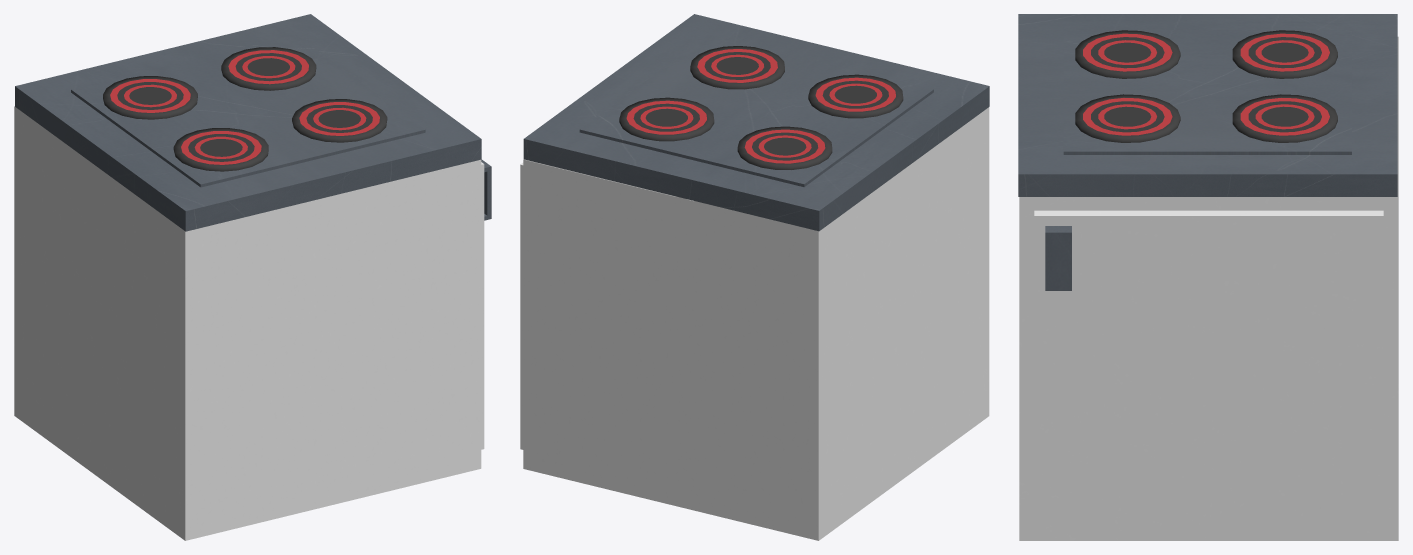
Rendered from mdl_Kitchen_basic02.fbx.
The picture shows the model from 3 angles, left to right: view 1: azimuth 30°, elevation 25°; view 2: azimuth 150°, elevation 25°; view 3: azimuth 270°, elevation 25°; orthographic projection. The views are drawn at different scales.
Parts seen in each view (by area): view 1: Cube.003; view 2: Cube.003; view 3: Cube.003.
Boxes of the visible parts, x1,y1,x2,y2 form: Cube.003: [14, 14, 491, 540]; Cube.003: [520, 14, 989, 540]; Cube.003: [1018, 14, 1398, 540].
Size of the model in its own units: 641 by 649 by 598.
